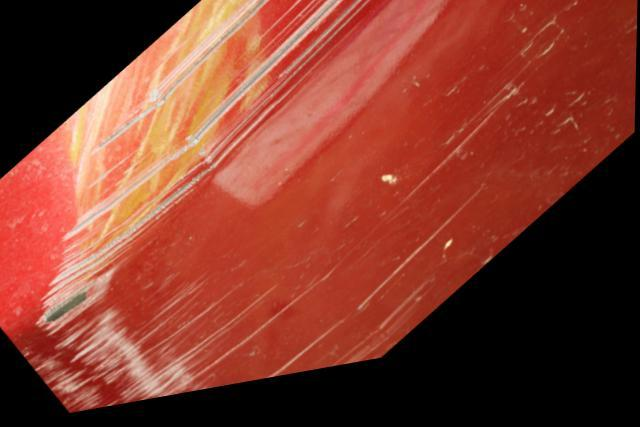scratch: (19, 0, 528, 416)
